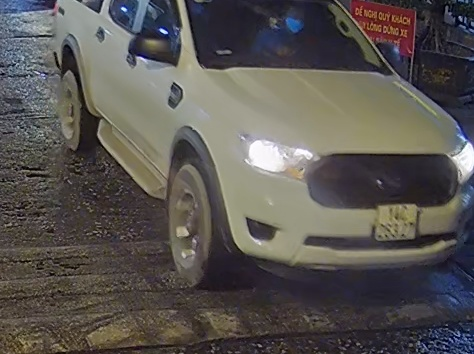vehicle plate: (371, 198, 423, 243)
